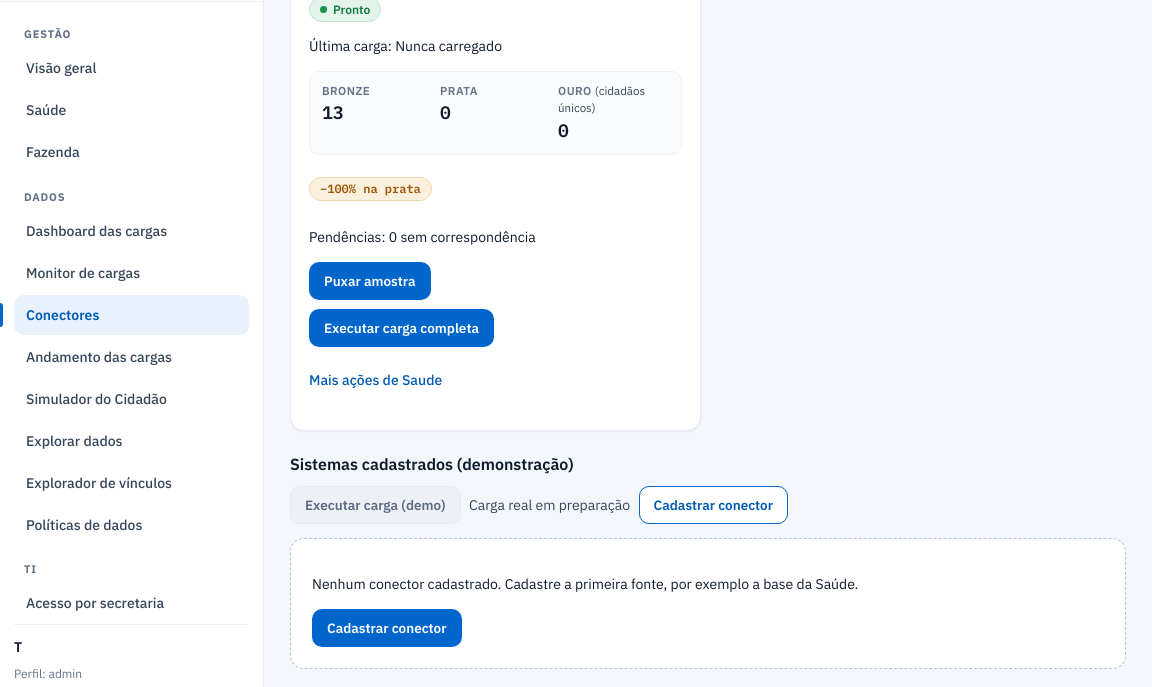
carga completa (CC1-CC6) › UX: estimativa 409 mostra o motivo; outra falha mostra a mensagem genérica
(page scrolled)
Click the button with aria-label "Executar carga completa de Saúde": (402, 328) [309, 308, 494, 346]
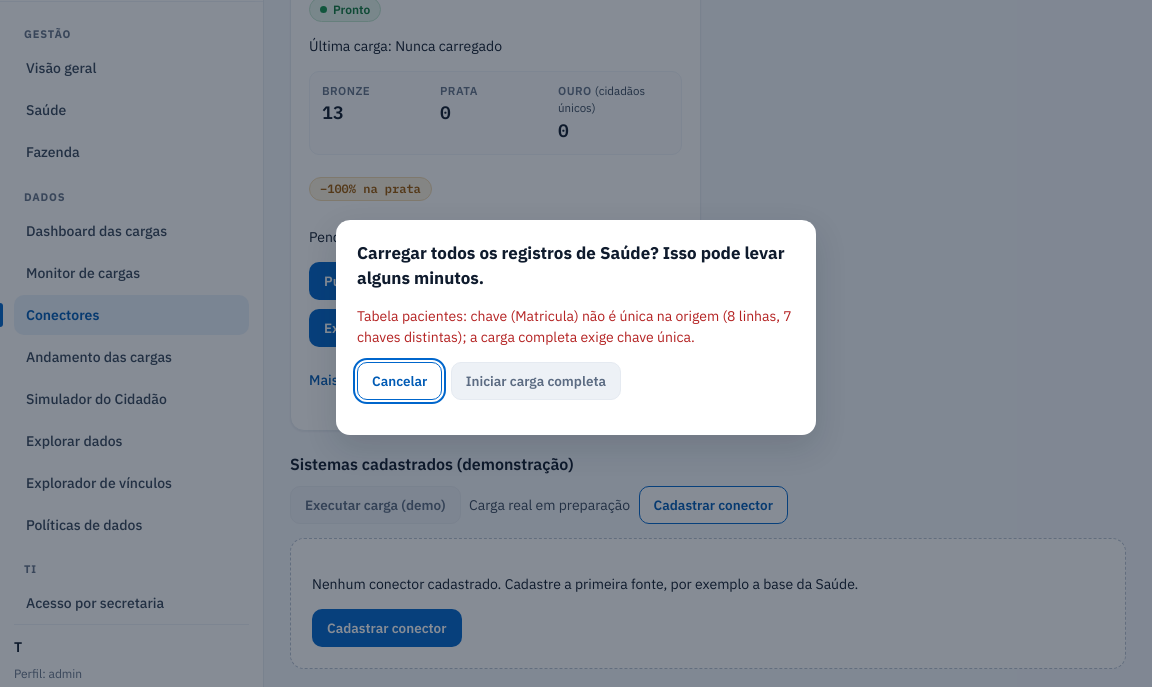
Expected: the text "Tabela pacientes: chave (Matricula) não é única na origem (8 linhas, 7 chaves distintas); a carga completa exige chave ú" is shown, [357, 306, 792, 346]
Expected: the button "Iniciar carga completa" is disabled, [451, 362, 621, 400]
Click the button "Cancelar": (400, 380) [357, 362, 442, 400]
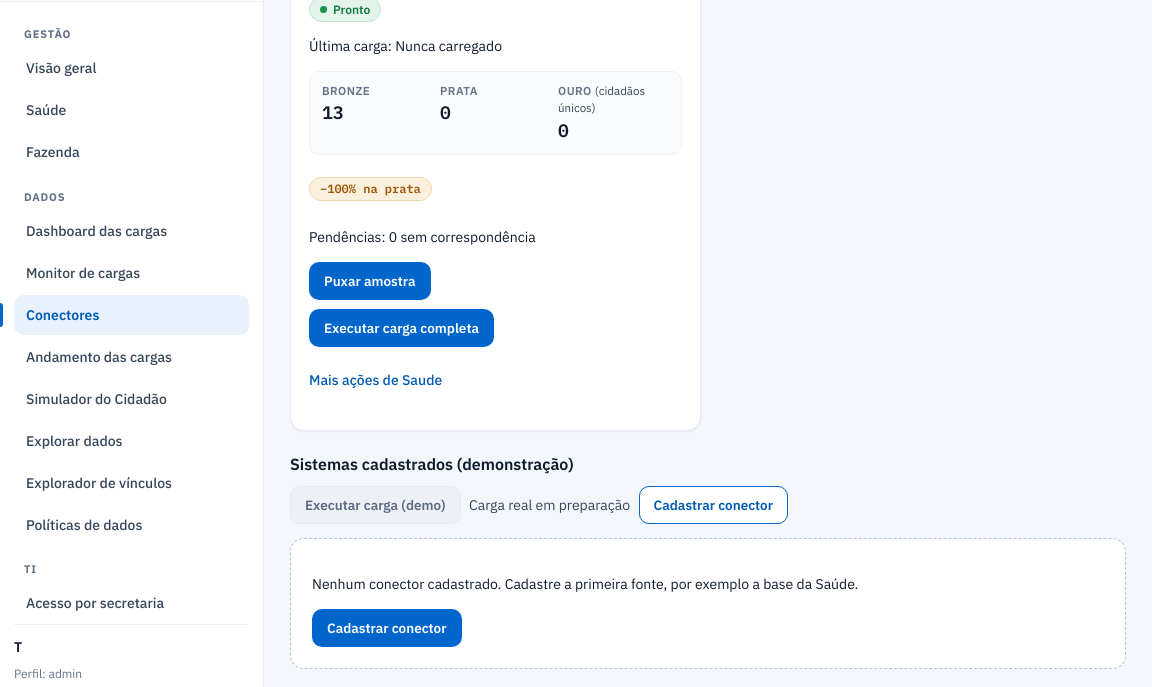
Click the button with aria-label "Executar carga completa de Saúde": (402, 328) [309, 308, 494, 346]
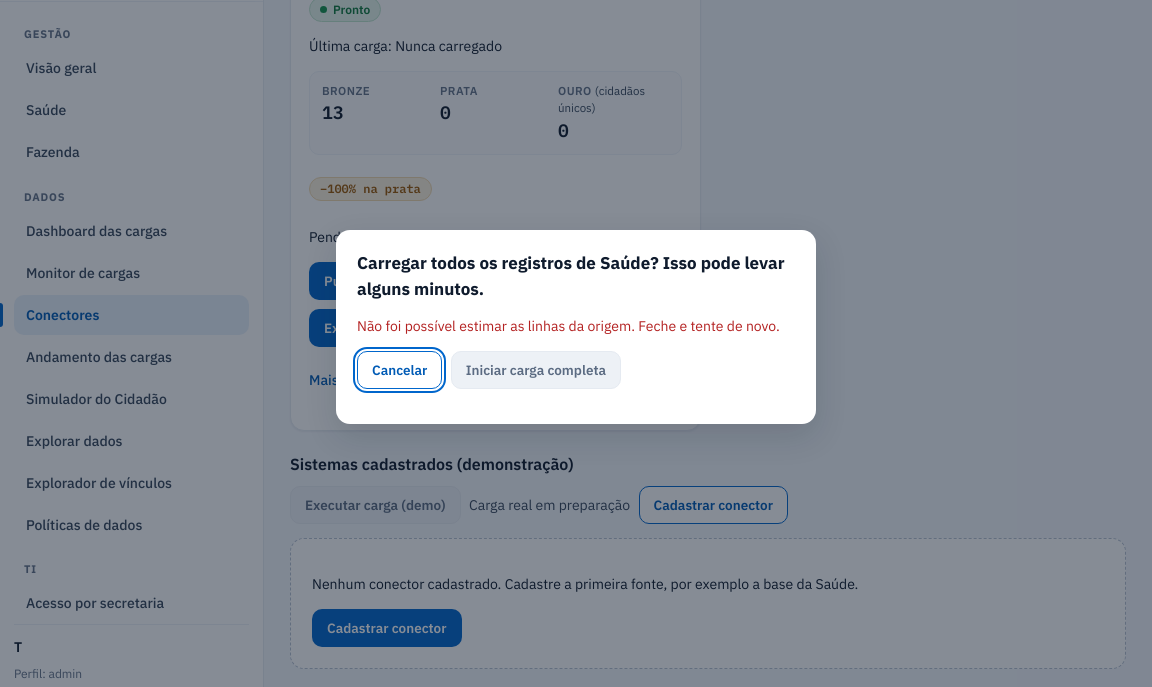
Expected: the text "Não foi possível estimar as linhas da origem. Feche e tente de novo." is shown, [357, 316, 795, 337]
